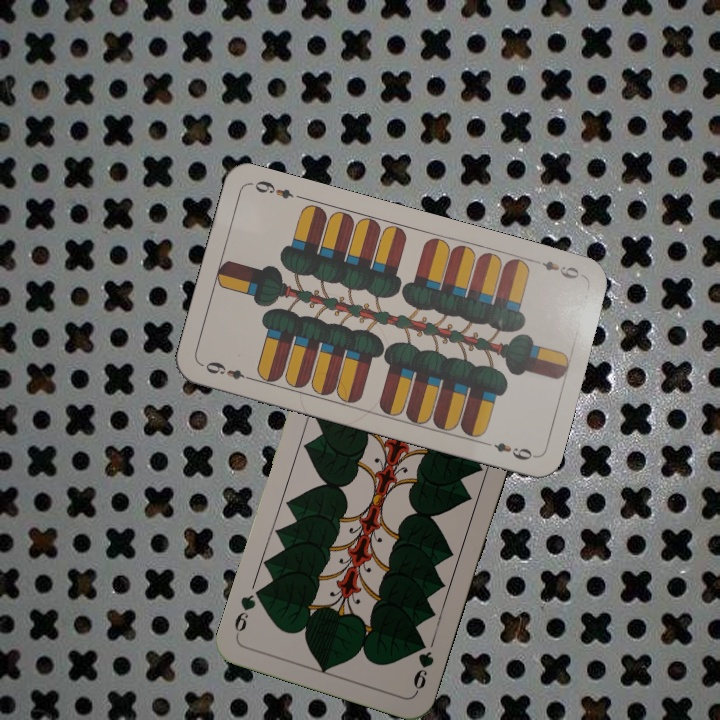E9: (198, 357, 256, 384), (538, 257, 582, 282)
G9: (409, 635, 437, 696)
